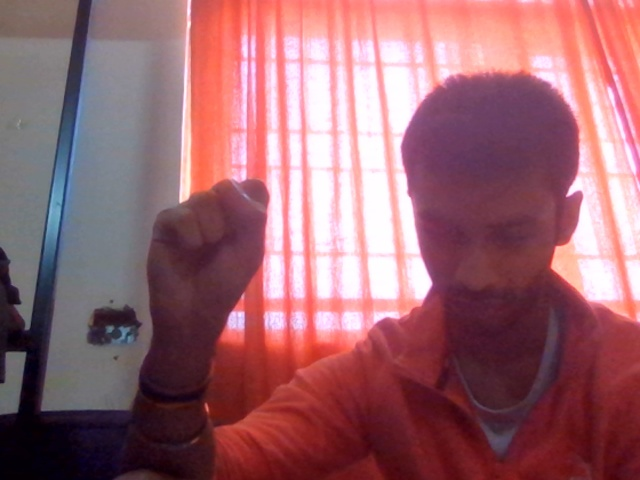S: (122, 171, 301, 392)
